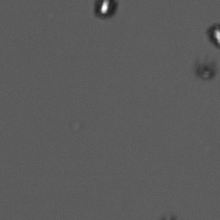Dead Cell: (198, 56, 215, 81)
Living Cell: (91, 1, 119, 20)
